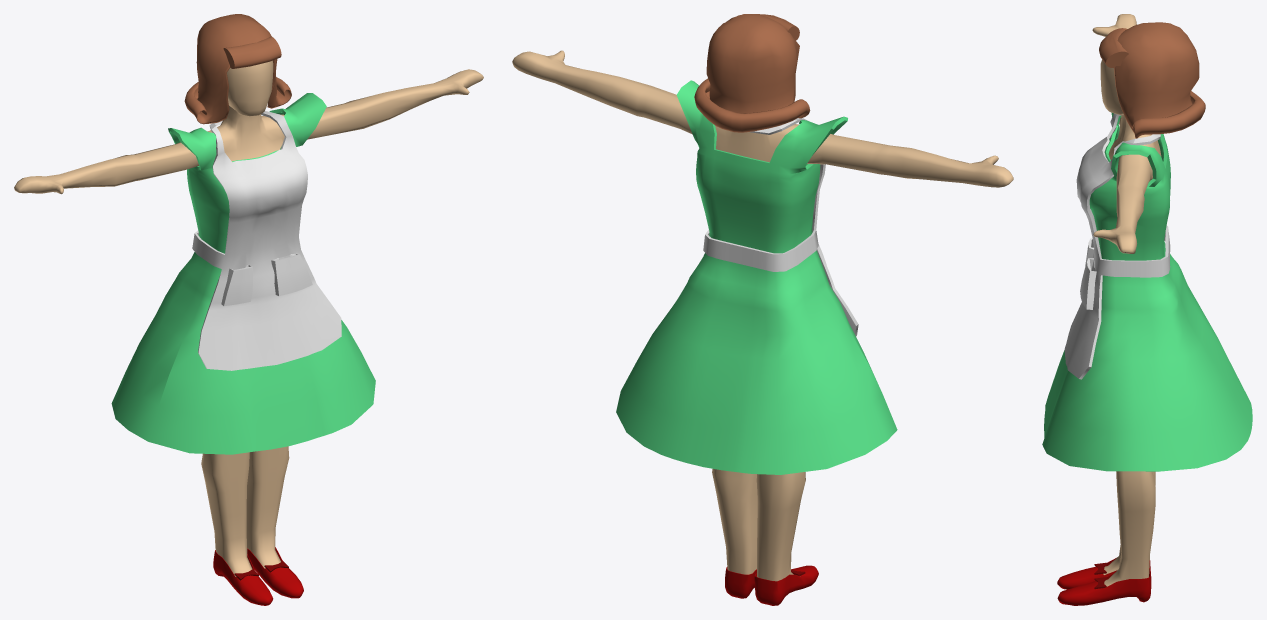
File: KampaajaNoRigTpose.fbx
3 views of the same model, side by side, from view 1: azimuth 30°, elevation 25°; view 2: azimuth 150°, elevation 25°; view 3: azimuth 270°, elevation 25° (orthographic). The views are drawn at different scales.
Parts seen in each view (by area): view 1: dress, Apron, body, Hair1, Shoes; view 2: dress, body, Hair1, Apron, Shoes; view 3: dress, Hair1, body, Apron, Shoes.
Boxes of the visible parts, bbox=[...] form: dress: bbox=[111, 93, 375, 454]; Apron: bbox=[192, 111, 341, 370]; body: bbox=[14, 60, 483, 576]; Hair1: bbox=[184, 14, 291, 124]; Shoes: bbox=[213, 547, 303, 605]; dress: bbox=[616, 80, 897, 474]; body: bbox=[512, 50, 1013, 581]; Hair1: bbox=[694, 14, 810, 132]; Apron: bbox=[703, 118, 858, 336]; Shoes: bbox=[725, 565, 818, 605]; dress: bbox=[1042, 112, 1252, 471]; Hair1: bbox=[1099, 22, 1205, 138]; body: bbox=[1092, 14, 1161, 586]; Apron: bbox=[1064, 113, 1170, 379]; Shoes: bbox=[1057, 558, 1151, 605].
Size of the model in its own units: 123 by 139 by 46.6.
